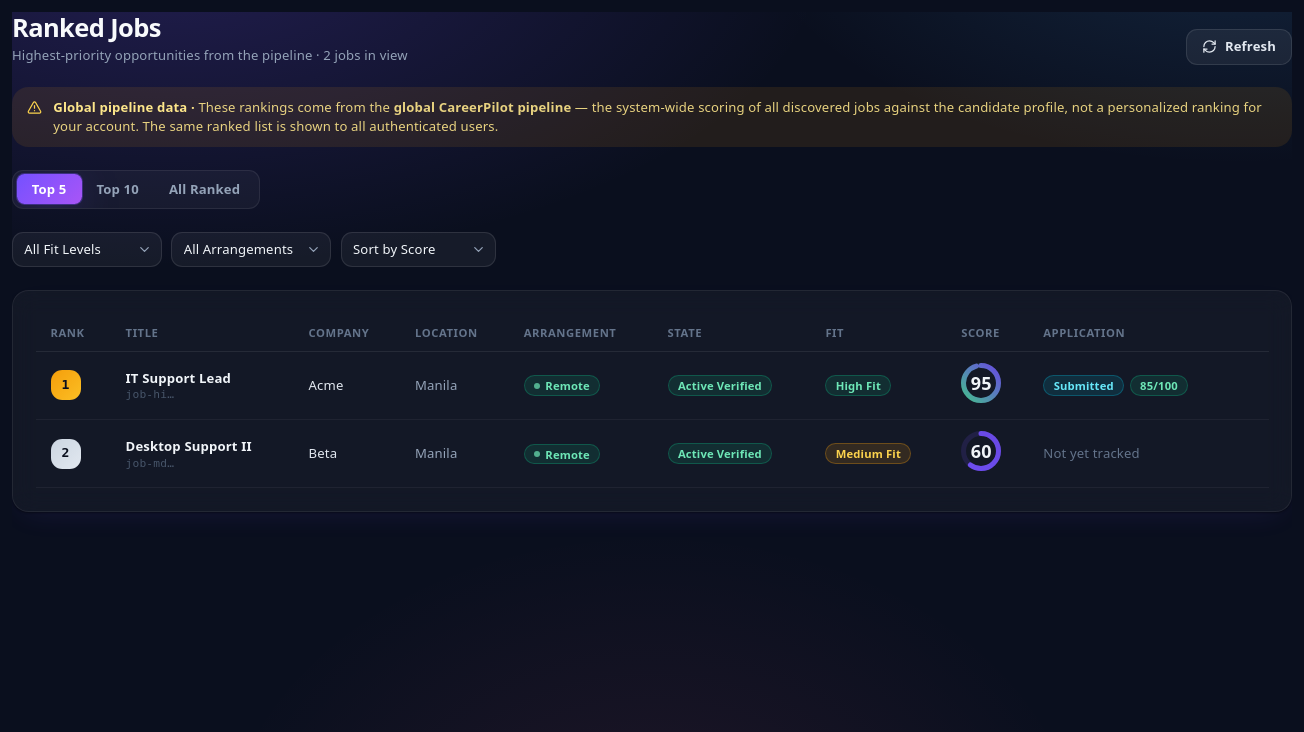
RankedJobs › filters by fit level within the current view
The width and height of the screenshot is (1304, 732).
Select "Medium Fit" in the dropdown named "Filter by fit level": (87, 249) left=12, top=232, right=162, bottom=267
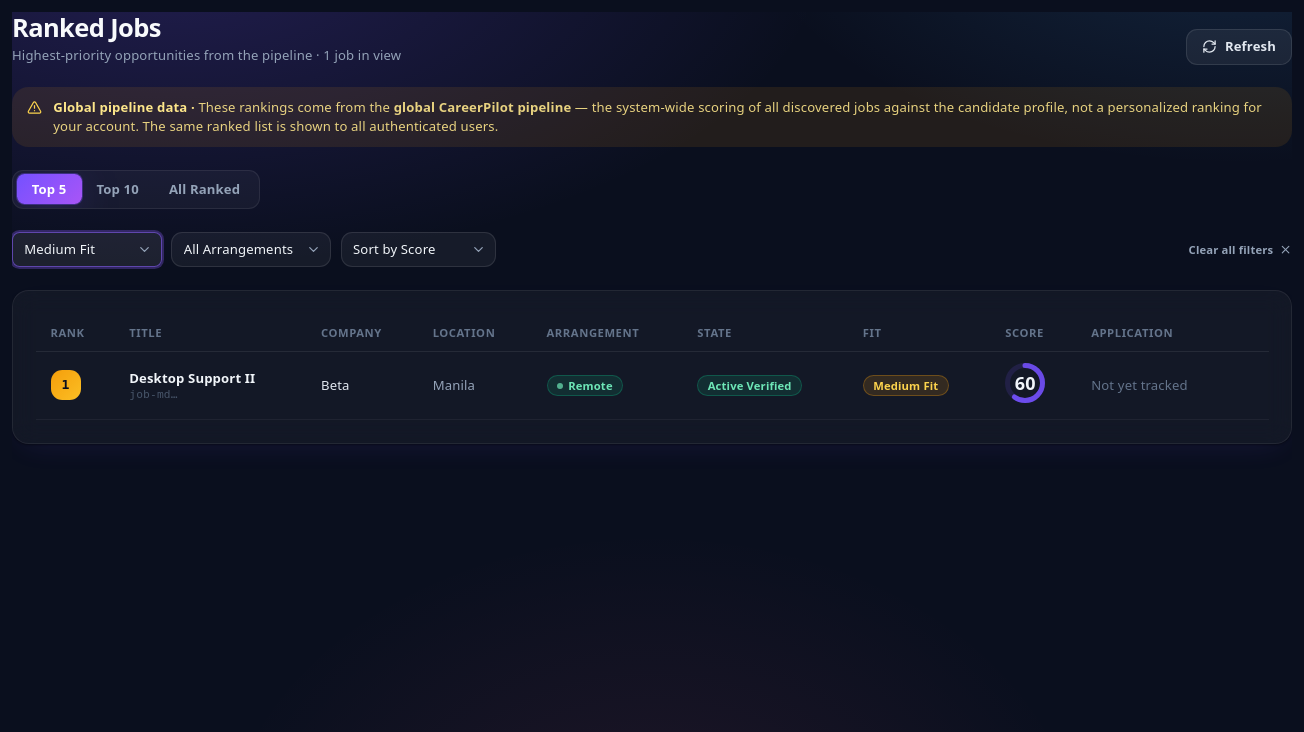
Expected: the link "Desktop Support II" is shown, left=129, top=368, right=255, bottom=386
Expected: the link "IT Support Lead" is gone
